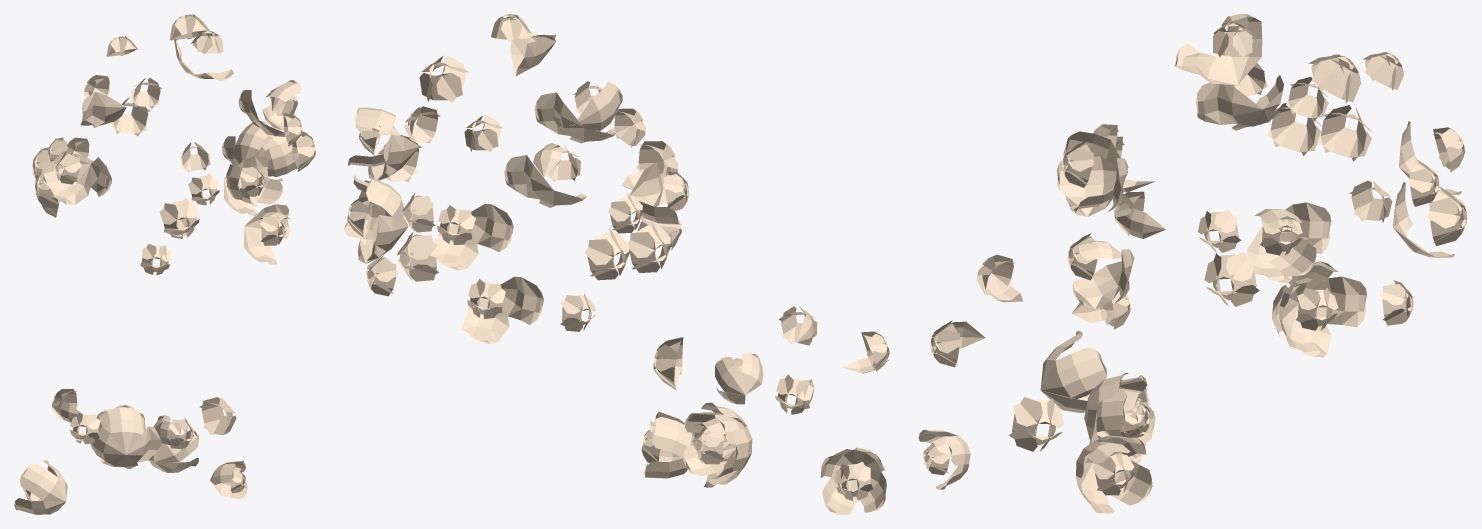
File: 03_openskp_material_71.001.obj
The picture shows the model from 3 angles, left to right: view 1: azimuth 30°, elevation 25°; view 2: azimuth 150°, elevation 25°; view 3: azimuth 270°, elevation 25°; orthographic projection. The views are drawn at different scales.
Parts seen in each view (by area): view 1: 03_openskp_material_71.001; view 2: 03_openskp_material_71.001; view 3: 03_openskp_material_71.001.
Part boxes in pixels (x1=…): 03_openskp_material_71.001: x1=14, y1=14, x2=315, y2=514; 03_openskp_material_71.001: x1=344, y1=14, x2=889, y2=514; 03_openskp_material_71.001: x1=918, y1=14, x2=1467, y2=514.
Size of the model in its own units: 20.13 by 20.57 by 19.14.
